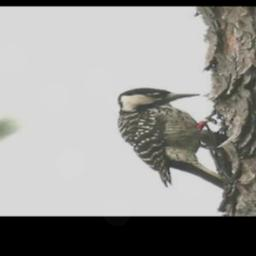Woodpecker: (116, 87, 233, 189)
